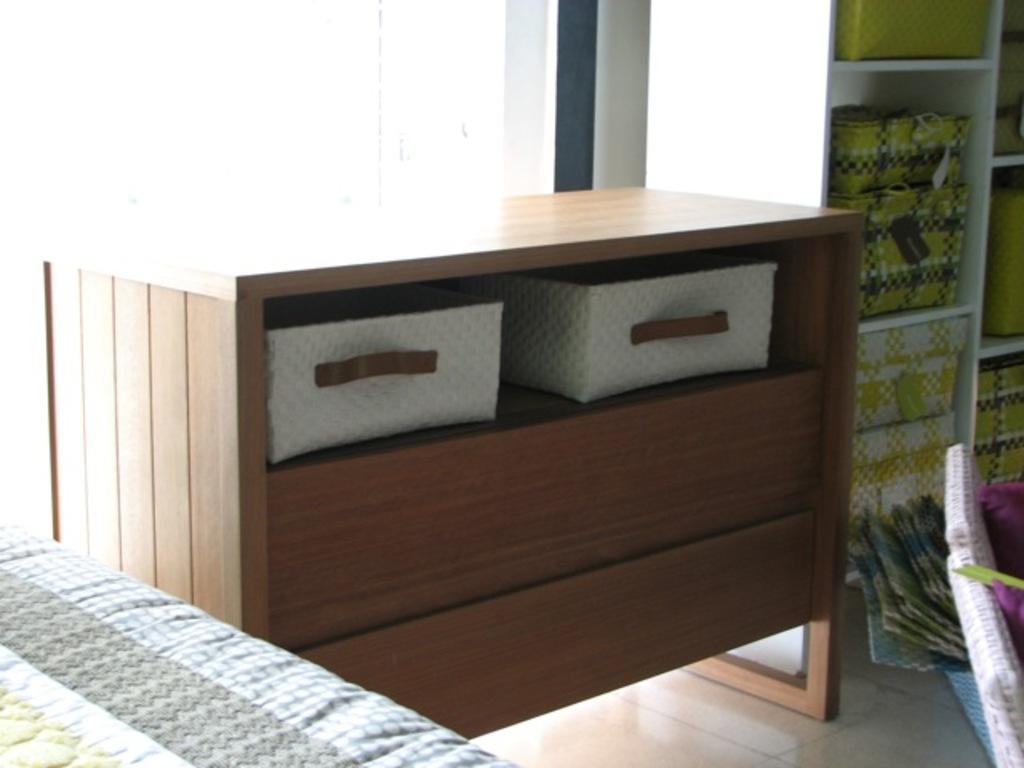cabinet_door: (276, 446, 819, 549), (286, 560, 800, 637), (269, 314, 504, 420), (580, 275, 777, 371)
handle: (294, 346, 442, 388), (626, 318, 732, 350)
